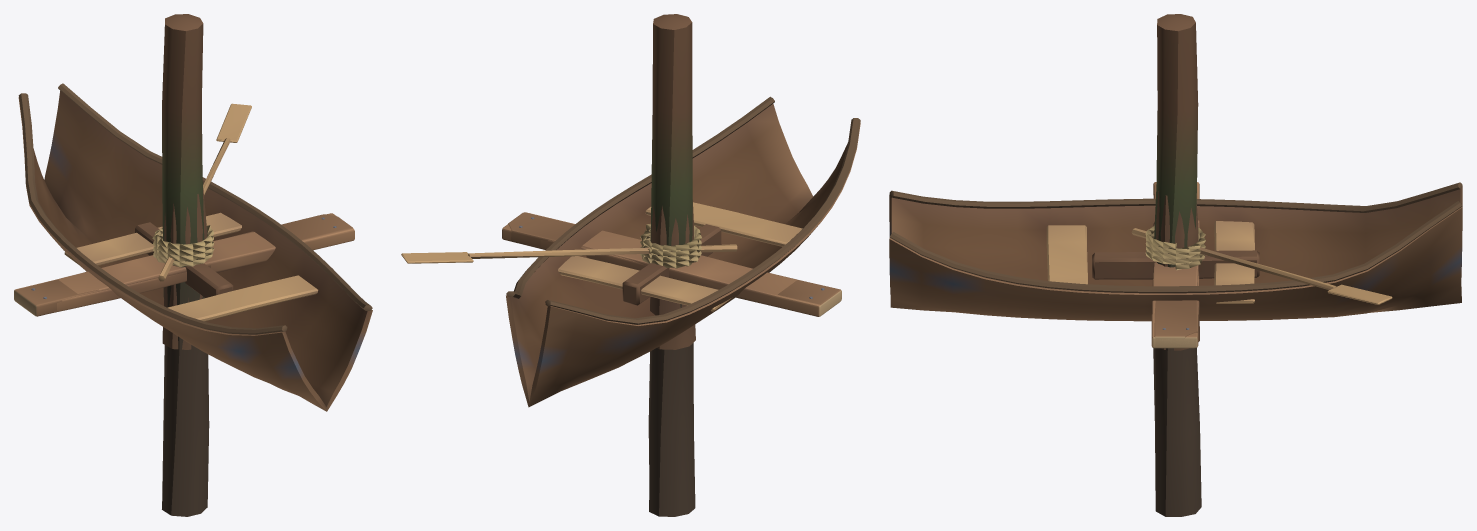
File: pr_dock.glb
3 views of the same model, side by side, from view 1: azimuth 30°, elevation 25°; view 2: azimuth 150°, elevation 25°; view 3: azimuth 270°, elevation 25° (orthographic).
Parts seen in each view (by area): view 1: PR_dock__boat, PR_dock__pile, PR_dock__plank2, PR_dock__moor, PR_dock__plank1, PR_dock__plank0, PR_dock__beam; view 2: PR_dock__boat, PR_dock__pile, PR_dock__plank2, PR_dock__moor, PR_dock__plank1, PR_dock__beam, PR_dock__plank0; view 3: PR_dock__boat, PR_dock__pile, PR_dock__moor, PR_dock__beam, PR_dock__plank1, PR_dock__plank2.
Boxes of the visible parts, box(x1,y1,x2,y2) form: PR_dock__boat: box(18, 83, 372, 411); PR_dock__pile: box(162, 14, 209, 516); PR_dock__plank2: box(14, 228, 354, 315); PR_dock__moor: box(152, 189, 214, 349); PR_dock__plank1: box(15, 214, 353, 316); PR_dock__plank0: box(14, 213, 336, 314); PR_dock__beam: box(135, 222, 233, 297); PR_dock__boat: box(401, 96, 860, 407); PR_dock__pile: box(648, 14, 695, 516); PR_dock__plank2: box(525, 212, 840, 316); PR_dock__moor: box(640, 200, 701, 349); PR_dock__plank1: box(508, 212, 841, 306); PR_dock__beam: box(622, 224, 721, 305); PR_dock__plank0: box(502, 217, 841, 306); PR_dock__boat: box(889, 182, 1462, 321); PR_dock__pile: box(1153, 14, 1201, 516); PR_dock__moor: box(1145, 191, 1205, 350); PR_dock__beam: box(1092, 250, 1259, 279); PR_dock__plank1: box(1153, 182, 1198, 345); PR_dock__plank2: box(1151, 182, 1199, 348).
Bounding box in the file's own units: 2.26 × 3.26 × 3.43.
